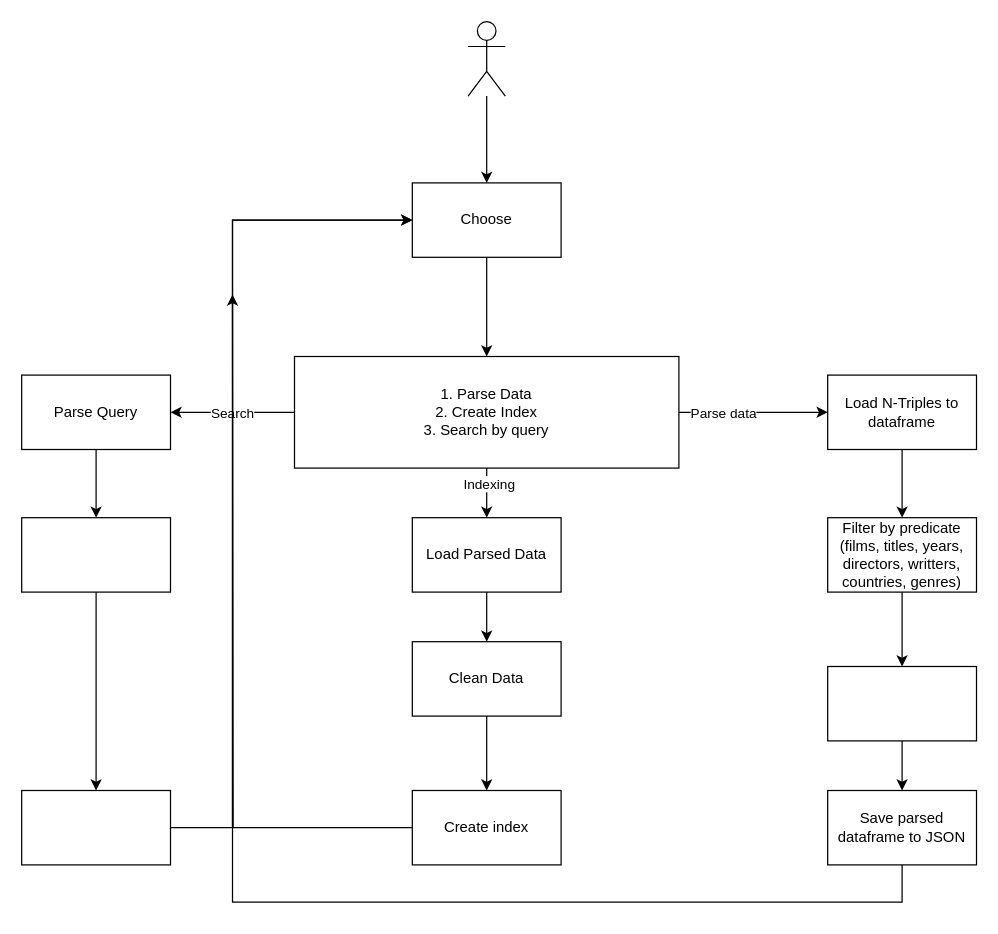
This 998x934 diagram has some shape labels left out. Here are the shapes that lost their labels. From the top down, the centre of each, then its label:
At (486,58): "User".
At (95,554): "Search by parsed Query".
At (901,703): "Join".
At (95,827): "Print founded Films".
